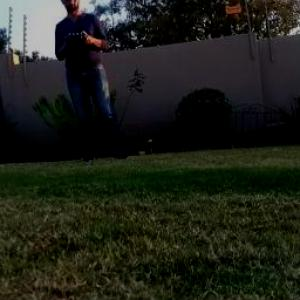follow: (50, 0, 135, 168)
